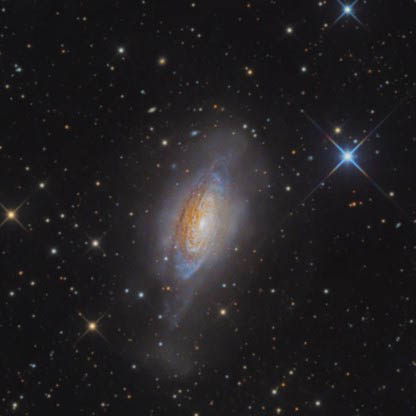NGC 3521: (82, 47, 346, 326)
